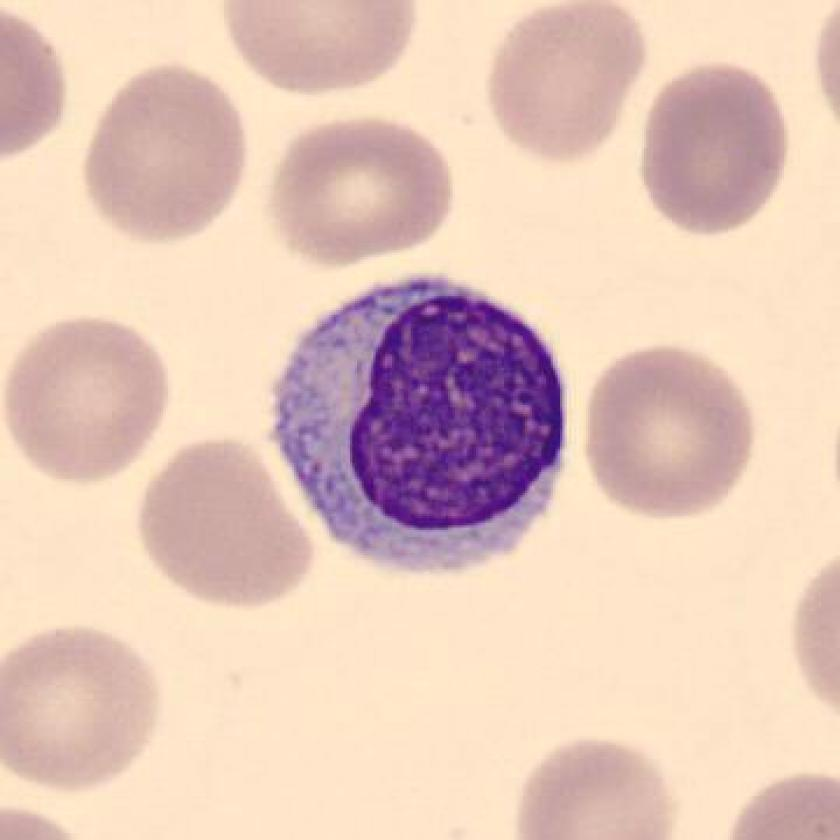lymphocyte: (253, 256, 591, 594)
